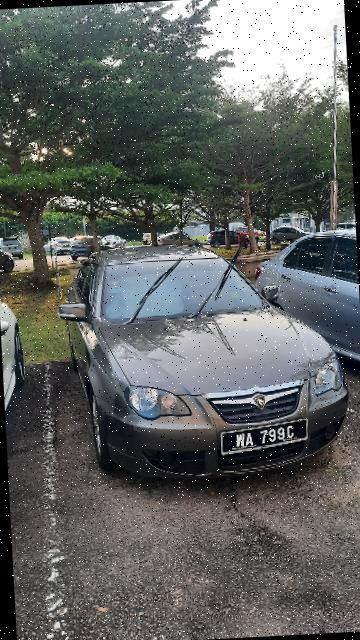License_Plate: (215, 416, 316, 461)
car: (52, 231, 355, 497)
